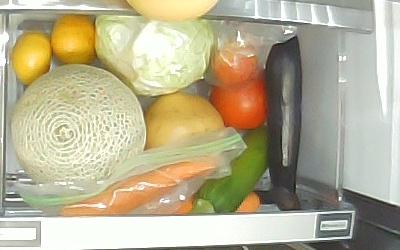cabbage: (95, 14, 213, 97)
carrot: (159, 191, 261, 214)
carrot_vinyl: (60, 154, 222, 217)
eggplant: (265, 35, 303, 212)
melon: (11, 63, 147, 189)
pear: (144, 92, 226, 149)
prune_vinyl: (210, 38, 259, 84)
tangerine: (52, 13, 96, 65), (11, 32, 52, 86)
tomato: (210, 78, 268, 130)
zucchini: (189, 126, 266, 215)
